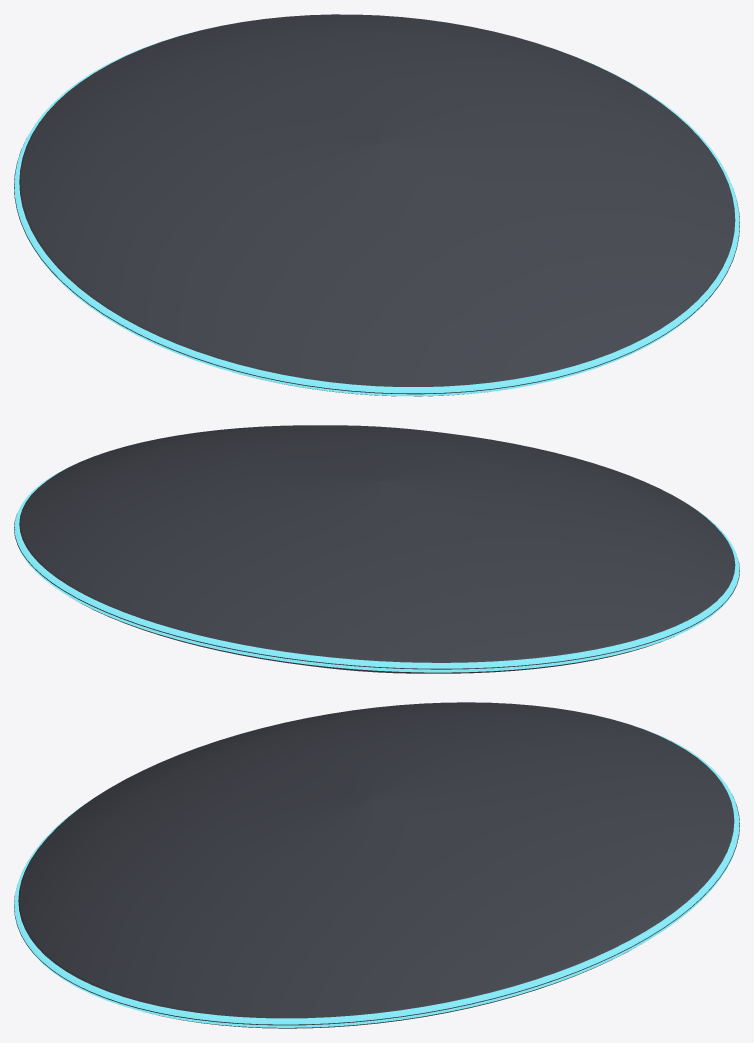
File: lens-disc.glb
The picture shows the model from 3 angles, top to bottom: view 1: azimuth 30°, elevation 25°; view 2: azimuth 150°, elevation 25°; view 3: azimuth 270°, elevation 25°; orthographic projection.
Visible parts, largest first — view 1: hull_mesh, rim-band_mesh; view 2: hull_mesh, rim-band_mesh; view 3: hull_mesh, rim-band_mesh.
Boxes of the visible parts, box(x1,y1,x2,y2) form: hull_mesh: box(14, 14, 739, 396); rim-band_mesh: box(14, 26, 739, 396); hull_mesh: box(14, 425, 739, 673); rim-band_mesh: box(14, 463, 739, 672); hull_mesh: box(14, 702, 739, 1028); rim-band_mesh: box(14, 724, 739, 1027).
Bounding box in the file's own units: 18 × 3.91 × 17.87.
